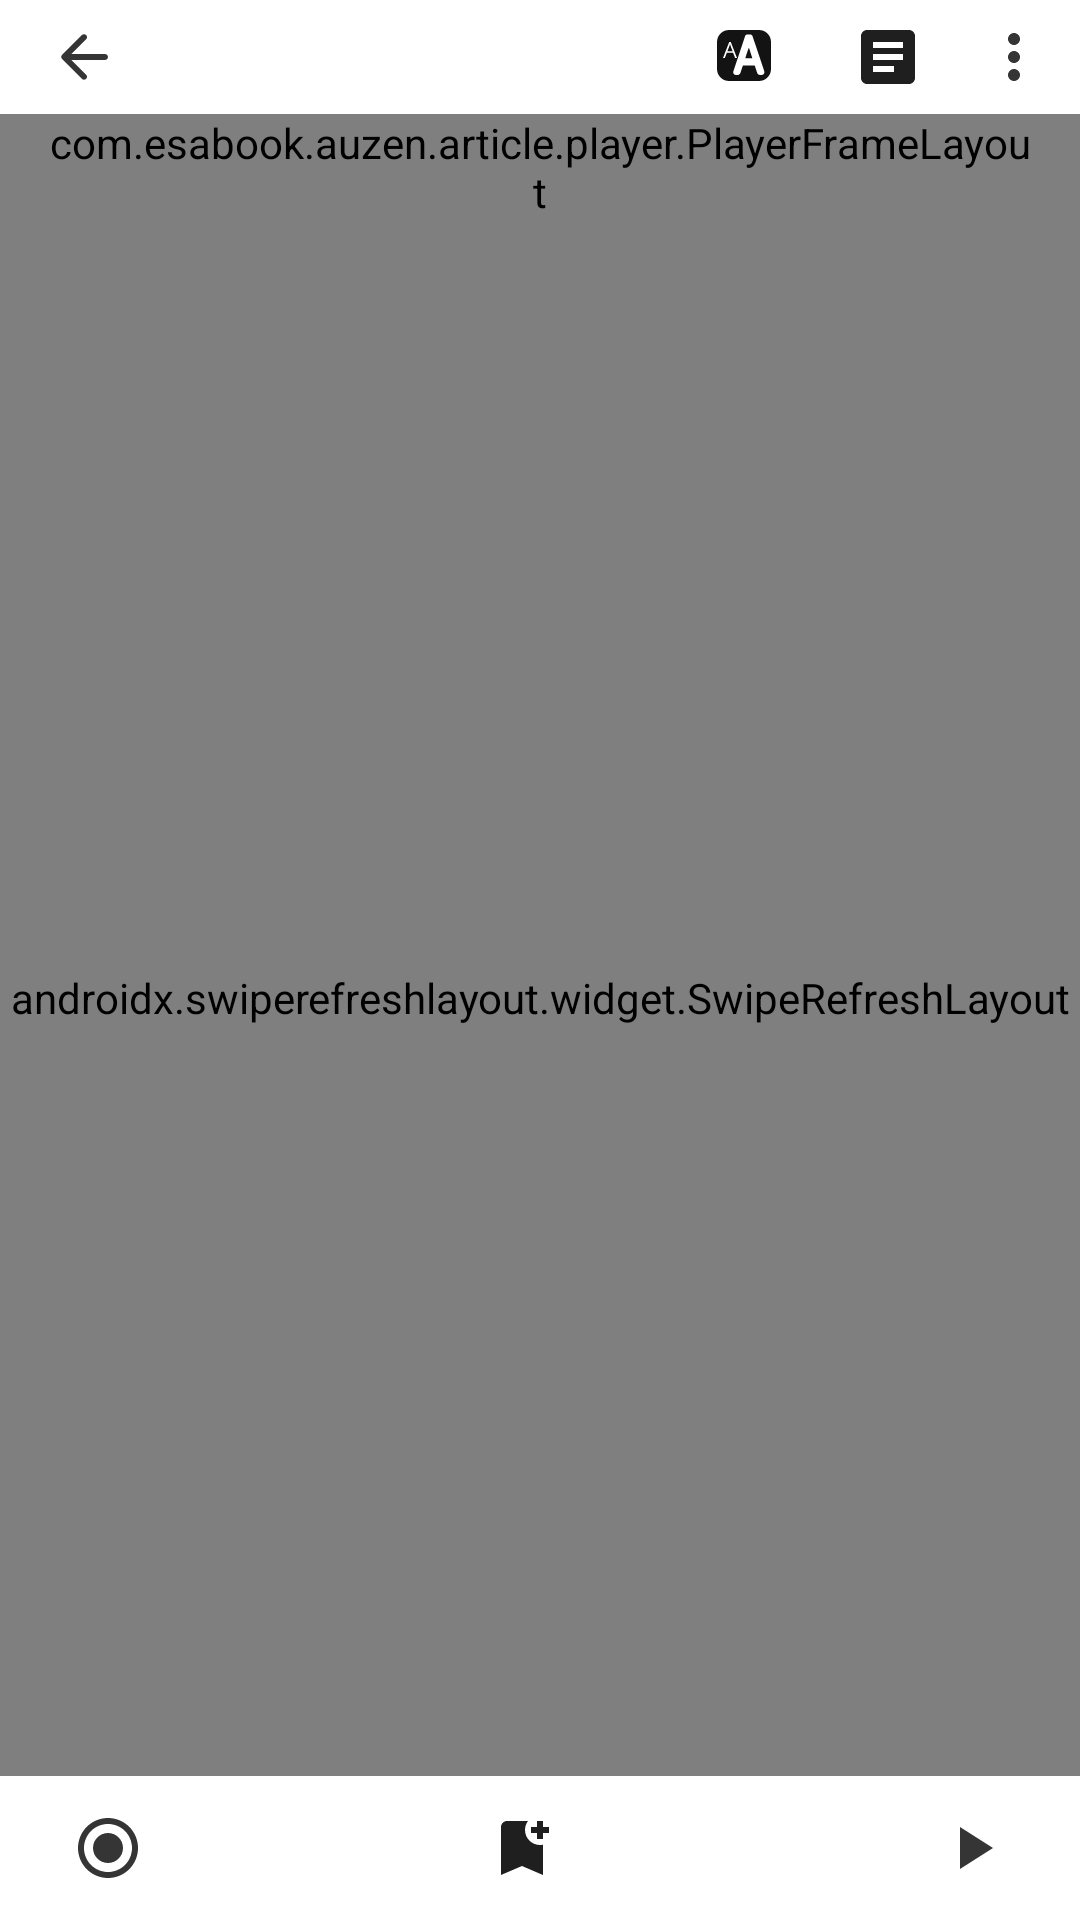

Where icons sit on this 1080w x 1920h app screen, as (x1, y1, x2, y2):
bookmark add: (501, 1821, 549, 1875)
play arrow: (960, 1827, 993, 1869)
